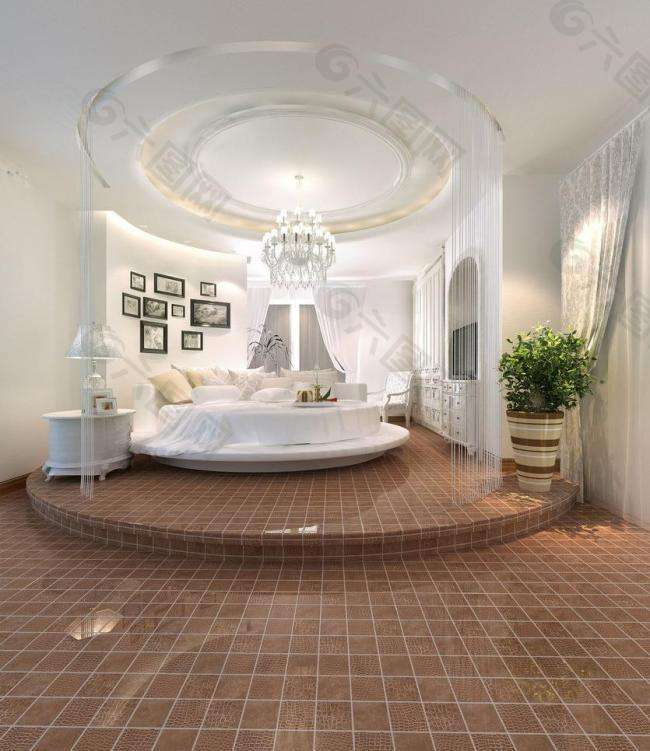枕头: (134, 376, 388, 468)
灯: (254, 211, 338, 291), (58, 319, 120, 414)
